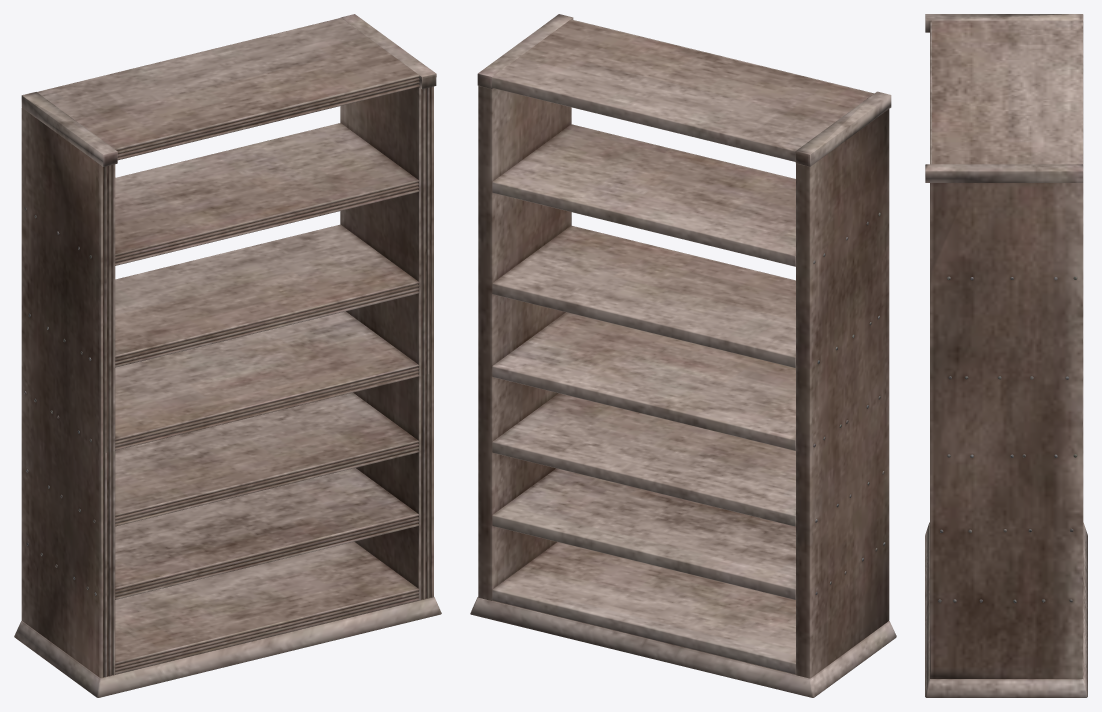
Rendered from wooden_bookshelf_worn.1ed034d4.glb.
3 views of the same model, side by side, from view 1: azimuth 30°, elevation 25°; view 2: azimuth 150°, elevation 25°; view 3: azimuth 270°, elevation 25° (orthographic). The views are drawn at different scales.
Parts seen in each view (by area): view 1: wooden_bookshelf_worn; view 2: wooden_bookshelf_worn; view 3: wooden_bookshelf_worn.
Part boxes in pixels (x1,y1,x2,y2): wooden_bookshelf_worn: [14, 14, 441, 697]; wooden_bookshelf_worn: [470, 14, 896, 697]; wooden_bookshelf_worn: [925, 14, 1087, 697].
Bounding box in the file's own units: 1.37 × 2.06 × 0.5814.
1 material, 1 textured.
